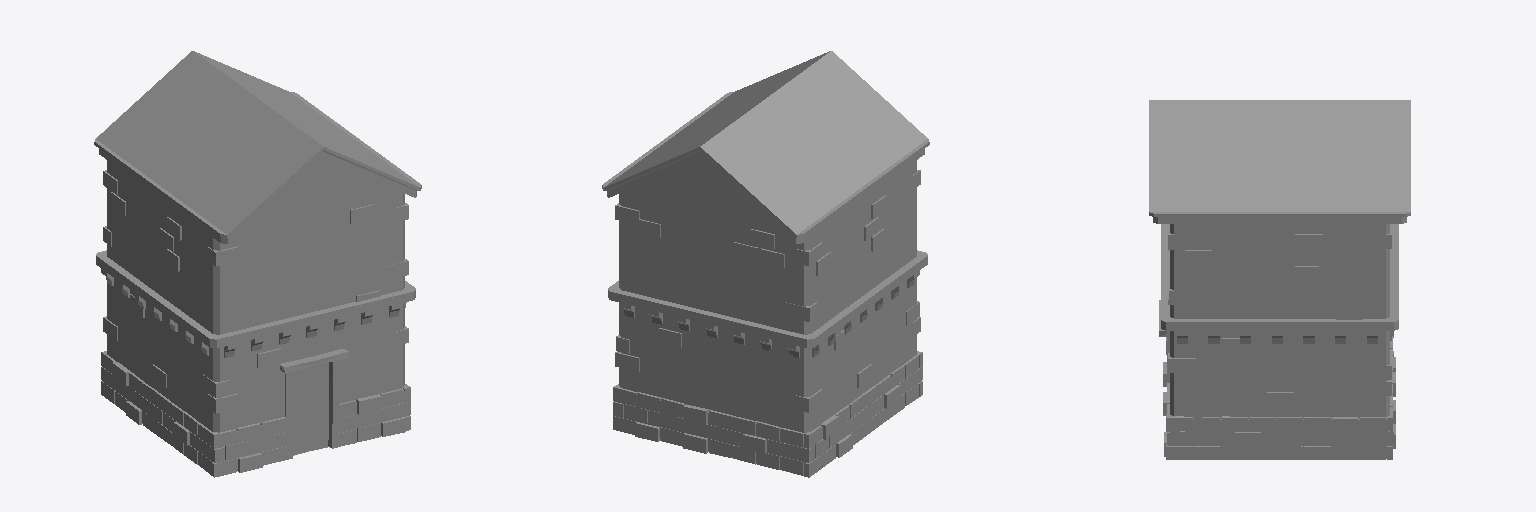
File: 2Story_GableRoof_Base.obj
3 renders of one model, left to right at view 1: azimuth 30°, elevation 25°; view 2: azimuth 150°, elevation 25°; view 3: azimuth 270°, elevation 25°, orthographic.
Parts seen in each view (by area): view 1: 2Story_GableRoof_Base_Cube.046; view 2: 2Story_GableRoof_Base_Cube.046; view 3: 2Story_GableRoof_Base_Cube.046.
Boxes of the visible parts, x1,y1,x2,y2 form: 2Story_GableRoof_Base_Cube.046: [94, 51, 421, 477]; 2Story_GableRoof_Base_Cube.046: [602, 51, 929, 477]; 2Story_GableRoof_Base_Cube.046: [1149, 100, 1410, 459].
Size of the model in its own units: 2.16 by 3.13 by 2.38.